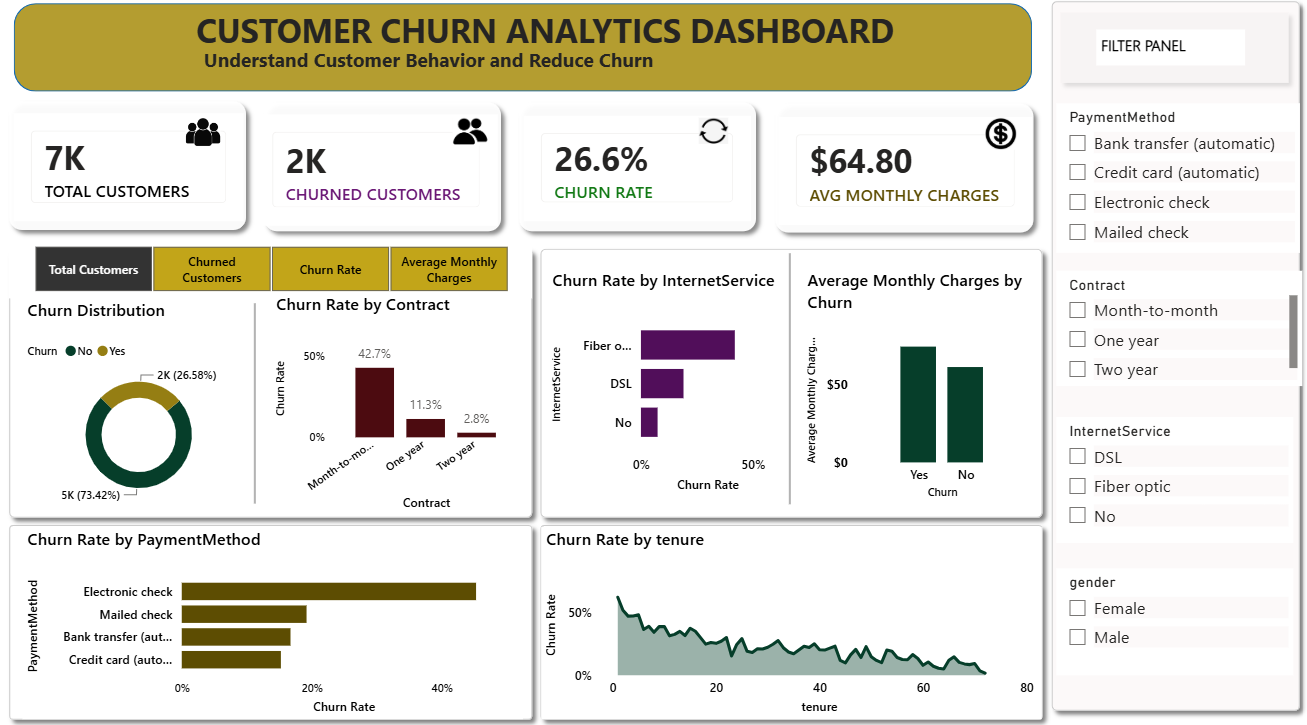

The dashboard page shown, as its layout file describes it:
{"tool":"powerbi","page":{"name":"Page 1","canvas":[1280,720],"ordinal":0},"visuals":[{"type":"shape","box":[13.7,11,996.2,86.4],"z":0},{"type":"textbox","box":[186.6,11,876.8,71.4],"z":1000},{"type":"textbox","box":[194.9,49.4,495.4,38.4],"z":2000},{"type":"shape","box":[0,97.4,249.7,144.1],"z":4000},{"type":"shape","box":[249.7,98.8,249.7,144.1],"z":5000},{"type":"shape","box":[499.5,98.8,249.7,144.1],"z":6000},{"type":"shape","box":[749.2,100.2,270.3,144.1],"z":7000},{"type":"cardVisual","fields":{"Data":["customer_churn_cleaned.Total Customers"]},"box":[13.7,118,225,105.7],"z":8000},{"type":"cardVisual","fields":{"Data":["customer_churn_cleaned.Churned Customers"]},"box":[249.7,119.4,237.4,108.4],"z":9000},{"type":"cardVisual","fields":{"Data":["customer_churn_cleaned.Churn Rate"]},"box":[511.8,120.8,222.3,102.9],"z":10000},{"type":"cardVisual","fields":{"Data":["customer_churn_cleaned.Average Monthly Charges"]},"box":[761.6,122.1,248.4,105.7],"z":11000},{"type":"shape","box":[0,241.5,529.7,281.3],"z":12000},{"type":"donutChart","title":"Churn Distribution","fields":{"Category":["customer_churn_cleaned.Churn"],"Y":["customer_churn_cleaned.Total Customers"]},"box":[22,299.1,227.8,208.6],"z":18000},{"type":"image","box":[177,122.1,42.5,28.8],"z":18001},{"type":"image","box":[443.2,122.1,34.3,28.8],"z":18002},{"type":"image","box":[963.3,122.1,31.6,32.9],"z":18003},{"type":"image","box":[683.4,119.4,28.8,31.6],"z":18004},{"type":"slicer","fields":{"Values":["Metrics.Metrics"]},"box":[8.2,241.5,511.8,57.6],"z":18005},{"type":"shape","box":[520.1,241.5,509.1,281.3],"z":18006},{"type":"clusteredColumnChart","fields":{"Category":["customer_churn_cleaned.Contract"],"Y":["customer_churn_cleaned.Churn Rate"]},"box":[264.8,293.7,247,218.2],"z":18007},{"type":"barChart","fields":{"Y":["customer_churn_cleaned.Churn Rate"],"Category":["customer_churn_cleaned.InternetService"]},"box":[535.2,270.3,240.1,223.7],"z":18008},{"type":"shape","box":[0,511.8,529.7,208.6],"z":18010},{"type":"barChart","fields":{"Y":["customer_churn_cleaned.Churn Rate"],"Category":["customer_churn_cleaned.PaymentMethod"]},"box":[22,522.8,489.9,188],"z":18011},{"type":"shape","box":[1019.6,0,260.7,712.2],"z":18012},{"type":"shape","box":[520.1,511.8,509.1,208.6],"z":18013},{"type":"columnChart","fields":{"Category":["customer_churn_cleaned.Churn"],"Y":["customer_churn_cleaned.Average Monthly Charges"]},"box":[784.9,270.3,225,230.5],"z":18014},{"type":"stackedAreaChart","fields":{"Category":["customer_churn_cleaned.tenure"],"Y":["customer_churn_cleaned.Churn Rate"]},"box":[529.7,522.8,489.9,188],"z":18015},{"type":"shape","box":[98.8,304.6,300.5,196.2],"z":18016},{"type":"shape","box":[623,255.2,300.5,245.6],"z":18017},{"type":"slicer","fields":{"Values":["customer_churn_cleaned.PaymentMethod"]},"box":[1033.3,108.8,238.5,146.7],"z":18018},{"type":"slicer","fields":{"Values":["customer_churn_cleaned.Contract"]},"box":[1033.3,272.7,240.9,112.5],"z":18019},{"type":"slicer","fields":{"Values":["customer_churn_cleaned.InternetService"]},"box":[1033.3,415.8,232.3,123.5],"z":18020},{"type":"slicer","fields":{"Values":["customer_churn_cleaned.gender"]},"box":[1033.3,563.7,232.3,105.2],"z":18021},{"type":"shape","box":[1028.4,11,240.9,86.8],"z":18023},{"type":"textbox","box":[1072.4,36.7,145.5,35.5],"z":18024}]}

Visuals, with their boxes in screenshot pixels (x1, y1, x2, y2), scaled from the page's 1280x720 canvas onto the 1307x725 screenshot:
shape: (14, 11, 1031, 98)
textbox: (191, 11, 1086, 83)
textbox: (199, 50, 705, 88)
shape: (0, 98, 255, 243)
shape: (255, 99, 510, 245)
shape: (510, 99, 765, 245)
shape: (765, 101, 1041, 246)
cardVisual - customer_churn_cleaned.Total Customers: (14, 119, 244, 225)
cardVisual - customer_churn_cleaned.Churned Customers: (255, 120, 497, 229)
cardVisual - customer_churn_cleaned.Churn Rate: (523, 122, 750, 225)
cardVisual - customer_churn_cleaned.Average Monthly Charges: (778, 123, 1031, 229)
shape: (0, 243, 541, 526)
"Churn Distribution" donutChart: (22, 301, 255, 511)
image: (181, 123, 224, 152)
image: (453, 123, 488, 152)
image: (984, 123, 1016, 156)
image: (698, 120, 727, 152)
slicer - Metrics.Metrics: (8, 243, 531, 301)
shape: (531, 243, 1051, 526)
clusteredColumnChart - customer_churn_cleaned.Contract x customer_churn_cleaned.Churn Rate: (270, 296, 523, 515)
barChart - customer_churn_cleaned.Churn Rate x customer_churn_cleaned.InternetService: (546, 272, 792, 497)
shape: (0, 515, 541, 724)
barChart - customer_churn_cleaned.Churn Rate x customer_churn_cleaned.PaymentMethod: (22, 526, 523, 716)
shape: (1041, 0, 1306, 717)
shape: (531, 515, 1051, 724)
columnChart - customer_churn_cleaned.Churn x customer_churn_cleaned.Average Monthly Charges: (801, 272, 1031, 504)
stackedAreaChart - customer_churn_cleaned.tenure x customer_churn_cleaned.Churn Rate: (541, 526, 1041, 716)
shape: (101, 307, 408, 504)
shape: (636, 257, 943, 504)
slicer - customer_churn_cleaned.PaymentMethod: (1055, 110, 1299, 257)
slicer - customer_churn_cleaned.Contract: (1055, 275, 1301, 388)
slicer - customer_churn_cleaned.InternetService: (1055, 419, 1292, 543)
slicer - customer_churn_cleaned.gender: (1055, 568, 1292, 674)
shape: (1050, 11, 1296, 98)
textbox: (1095, 37, 1244, 73)
